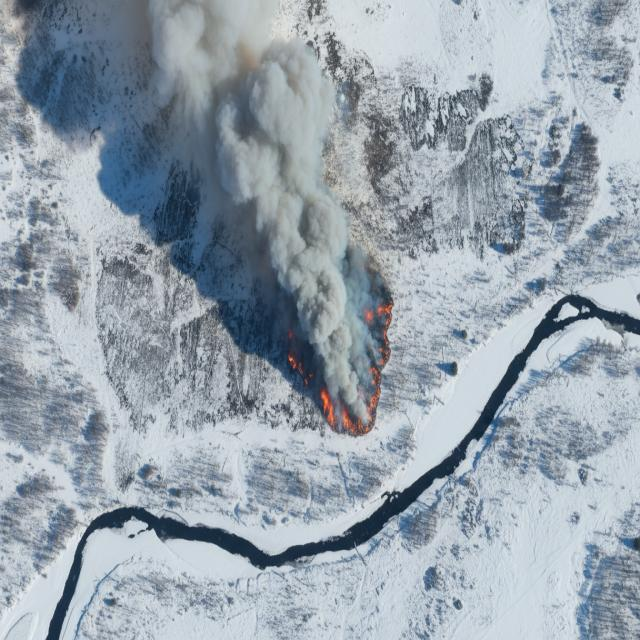wildfire: (252, 153, 396, 440)
